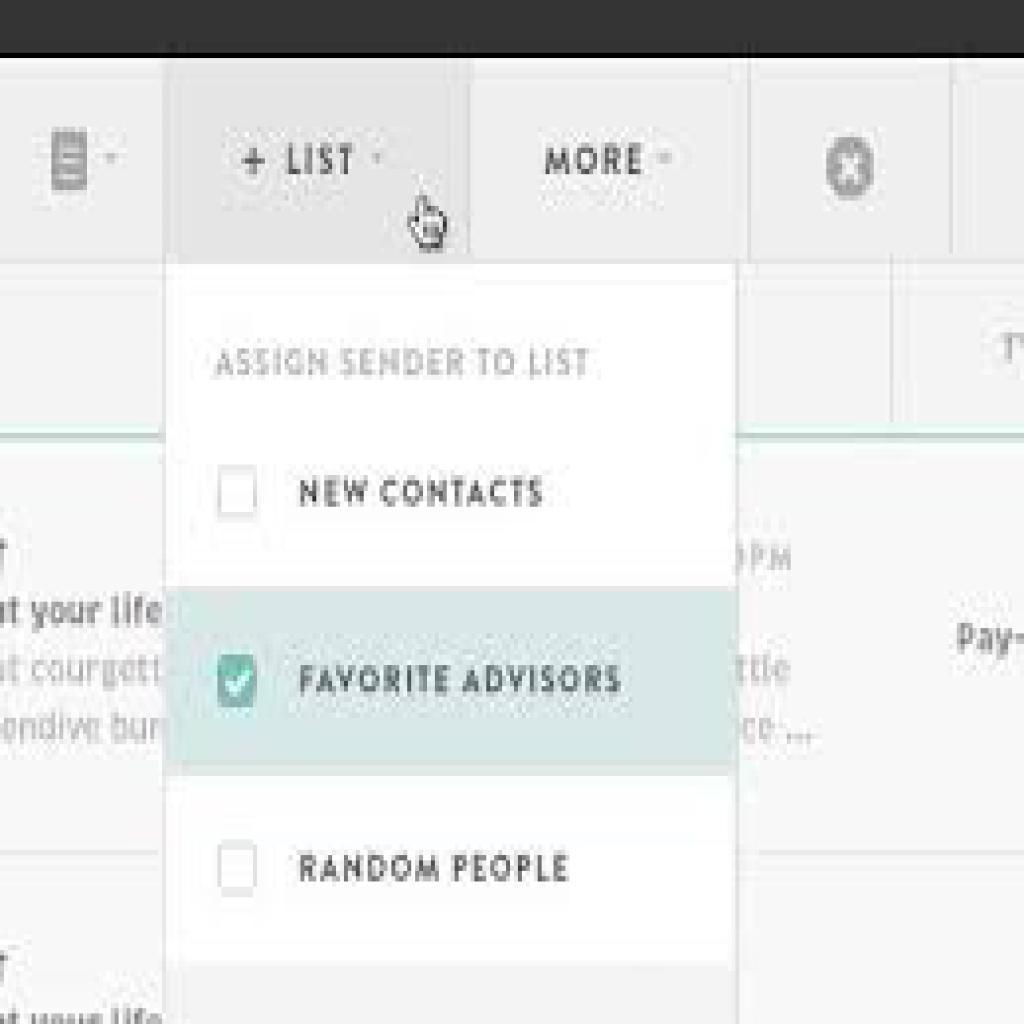checkbox: (216, 841, 259, 896), (217, 653, 259, 709), (216, 463, 257, 514)
icon: (47, 127, 94, 197), (823, 133, 870, 198), (233, 137, 272, 189)
